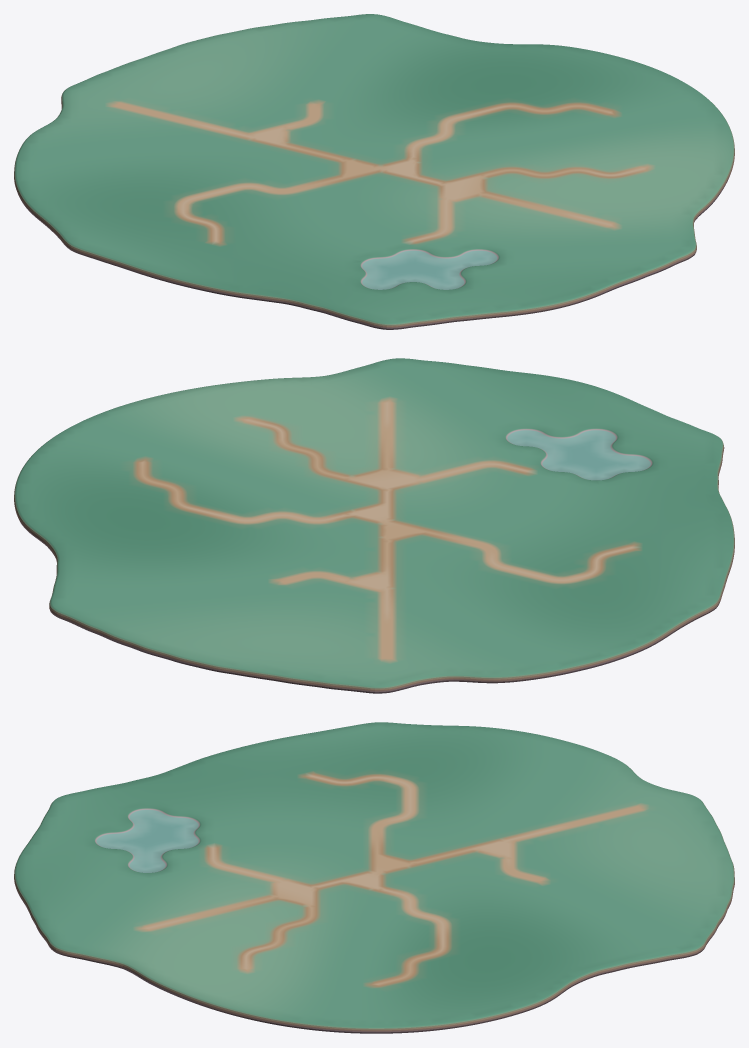
The model's file is terrain.glb.
3 views of the same model, one above another, from view 1: azimuth 30°, elevation 25°; view 2: azimuth 150°, elevation 25°; view 3: azimuth 270°, elevation 25° (orthographic). The views are drawn at different scales.
Parts seen in each view (by area): view 1: terrain; view 2: terrain; view 3: terrain.
Part boxes in pixels (x1,y1,x2,y2): terrain: [14, 14, 734, 329]; terrain: [14, 358, 734, 693]; terrain: [14, 722, 734, 1033].
Bounding box in the file's own units: 38.31 × 0.3507 × 38.04.
